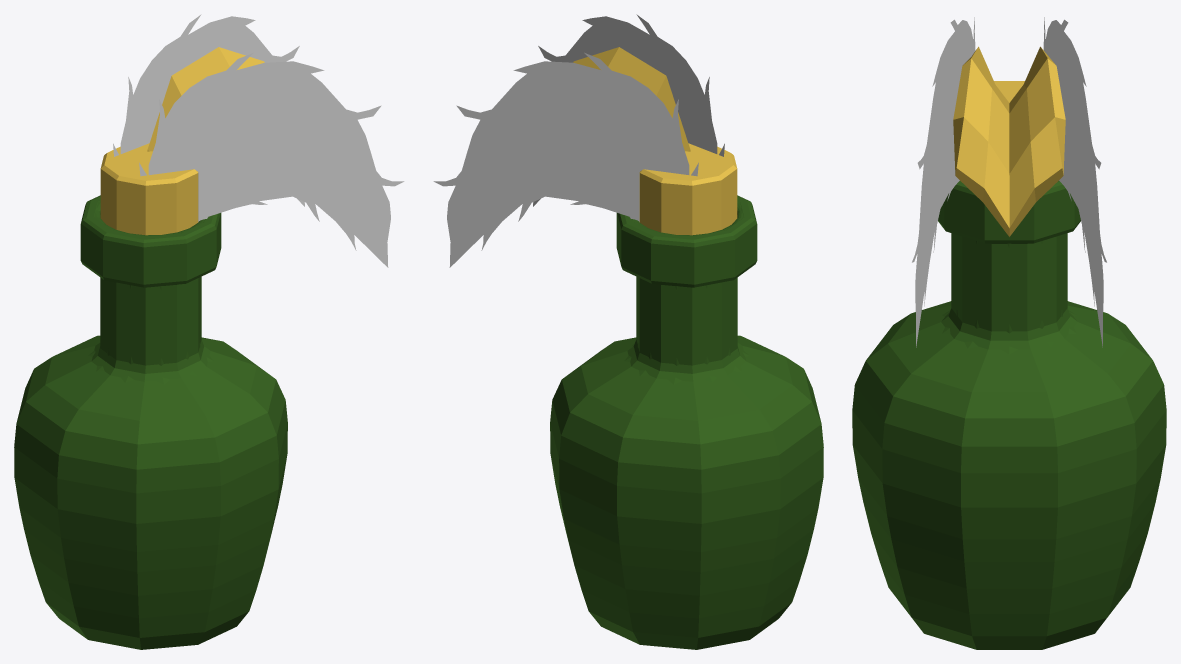
File: molotov_cocktail.glb
3 views of the same model, side by side, from view 1: azimuth 30°, elevation 25°; view 2: azimuth 150°, elevation 25°; view 3: azimuth 270°, elevation 25° (orthographic). The views are drawn at different scales.
Visible parts, largest first — view 1: bottle.001, bottle.002, bottle; view 2: bottle.001, bottle.002, bottle; view 3: bottle.001, bottle.002, bottle.
Part boxes in pixels (bbox=[...]): bottle.001: bbox=[14, 143, 287, 649]; bottle.002: bbox=[113, 14, 404, 267]; bottle: bbox=[88, 148, 213, 384]; bottle.001: bbox=[550, 143, 823, 649]; bottle.002: bbox=[433, 14, 724, 267]; bottle: bbox=[624, 148, 749, 384]; bottle.001: bbox=[852, 81, 1166, 649]; bottle.002: bbox=[912, 17, 1106, 347]; bottle: bbox=[942, 88, 1076, 354].
Size of the model in its own units: 0.3323 by 0.552 by 0.2475.
